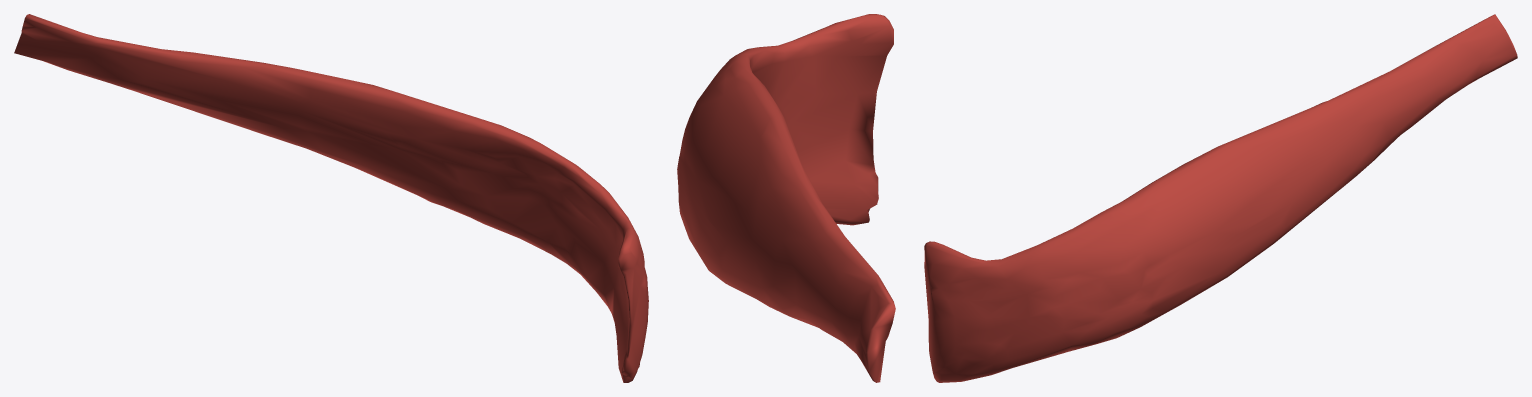
The model's file is musculos-lateral-rectus-muscle-l.glb.
3 renders of one model, left to right at view 1: azimuth 30°, elevation 25°; view 2: azimuth 150°, elevation 25°; view 3: azimuth 270°, elevation 25°, orthographic. The views are drawn at different scales.
Parts seen in each view (by area): view 1: Lateral rectus muscle.l; view 2: Lateral rectus muscle.l; view 3: Lateral rectus muscle.l.
Boxes of the visible parts, left/top/right/bottom form: Lateral rectus muscle.l: left=14, top=14, right=648, bottom=382; Lateral rectus muscle.l: left=677, top=14, right=895, bottom=382; Lateral rectus muscle.l: left=924, top=14, right=1517, bottom=382.
Bounding box in the file's own units: 0.0264 × 0.0164 × 0.0398.
